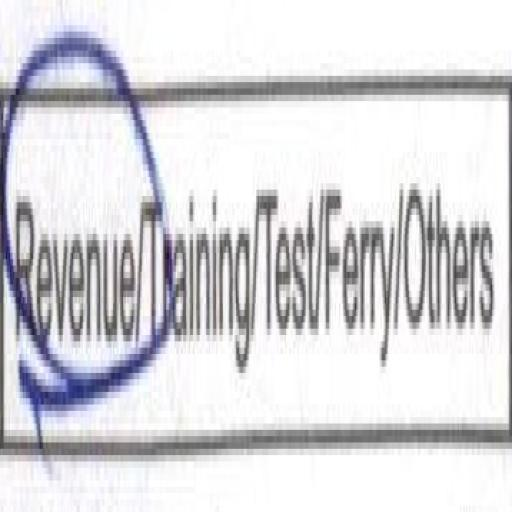check: (0, 0, 144, 436)
